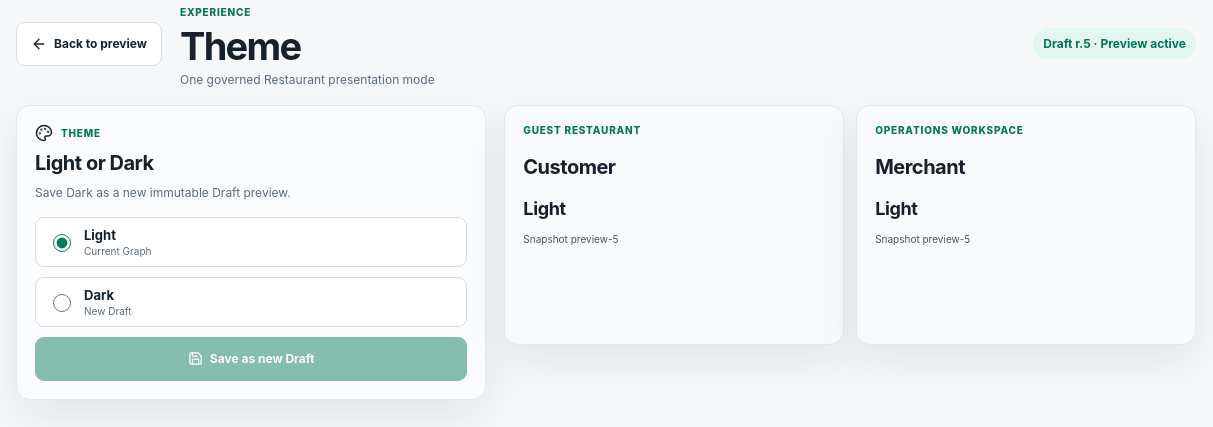
Scenario: TemplateExperienceWorkspace › shows a labelled Theme group and derives both accepted frames from the strict r.5 Graph
Check: the element named "Theme" is shown, box 35,217 -> 467,327
Check: the radio button with aria-label "Light" is checked, box 53,234 -> 71,252
Click the radio button with aria-label "Dark" at point(62, 303), box 53,294 -> 71,312
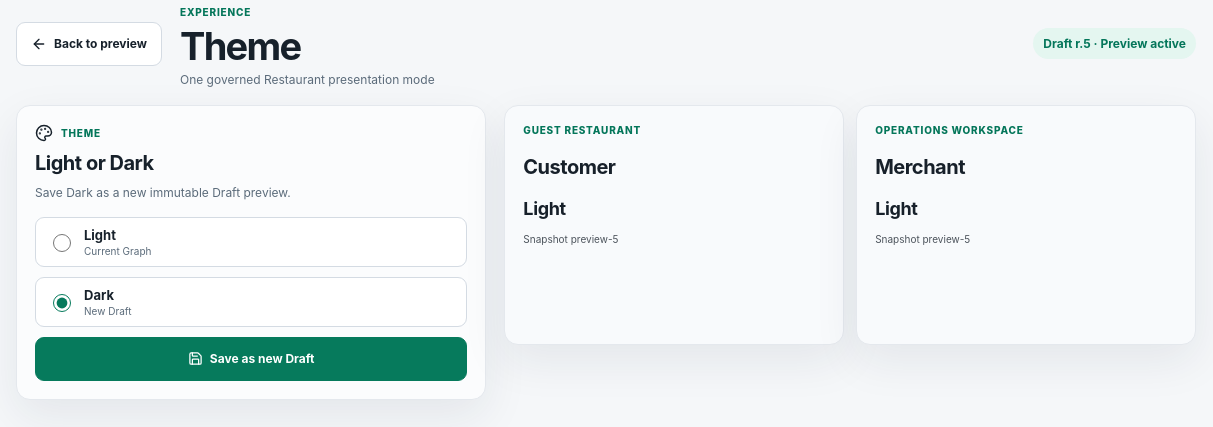
Check: the radio button with aria-label "Dark" is checked, box 53,294 -> 71,312
Check: the button with aria-label "Save dark theme as new Draft" is enabled, box 35,337 -> 467,381
